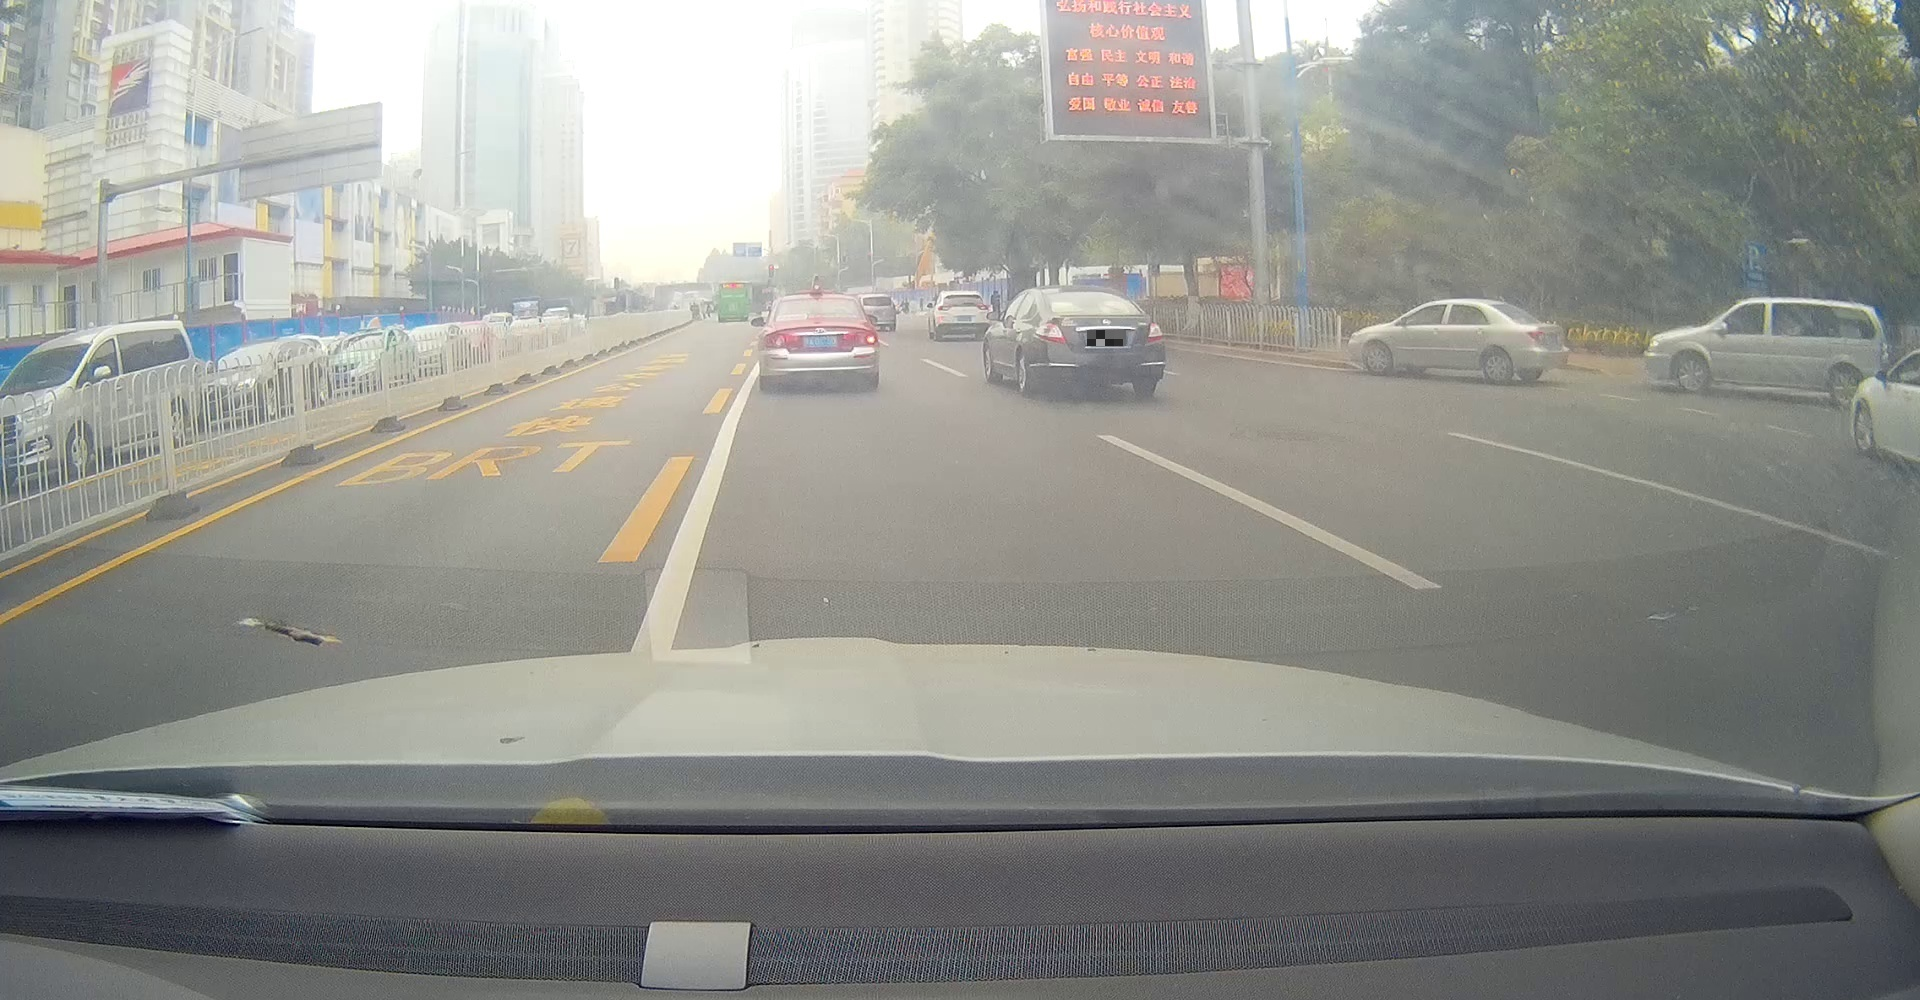L_light: (1035, 322, 1065, 344), (764, 334, 789, 349), (938, 305, 952, 311)
R_light: (1145, 321, 1164, 341), (855, 332, 877, 346), (977, 305, 989, 310)
T_light: (1079, 291, 1098, 296), (809, 313, 827, 319), (960, 294, 970, 297)
day-no: (1031, 284, 1166, 398), (936, 291, 990, 341)
day-right: (758, 291, 880, 390)
plate_1: (1087, 330, 1126, 346)
